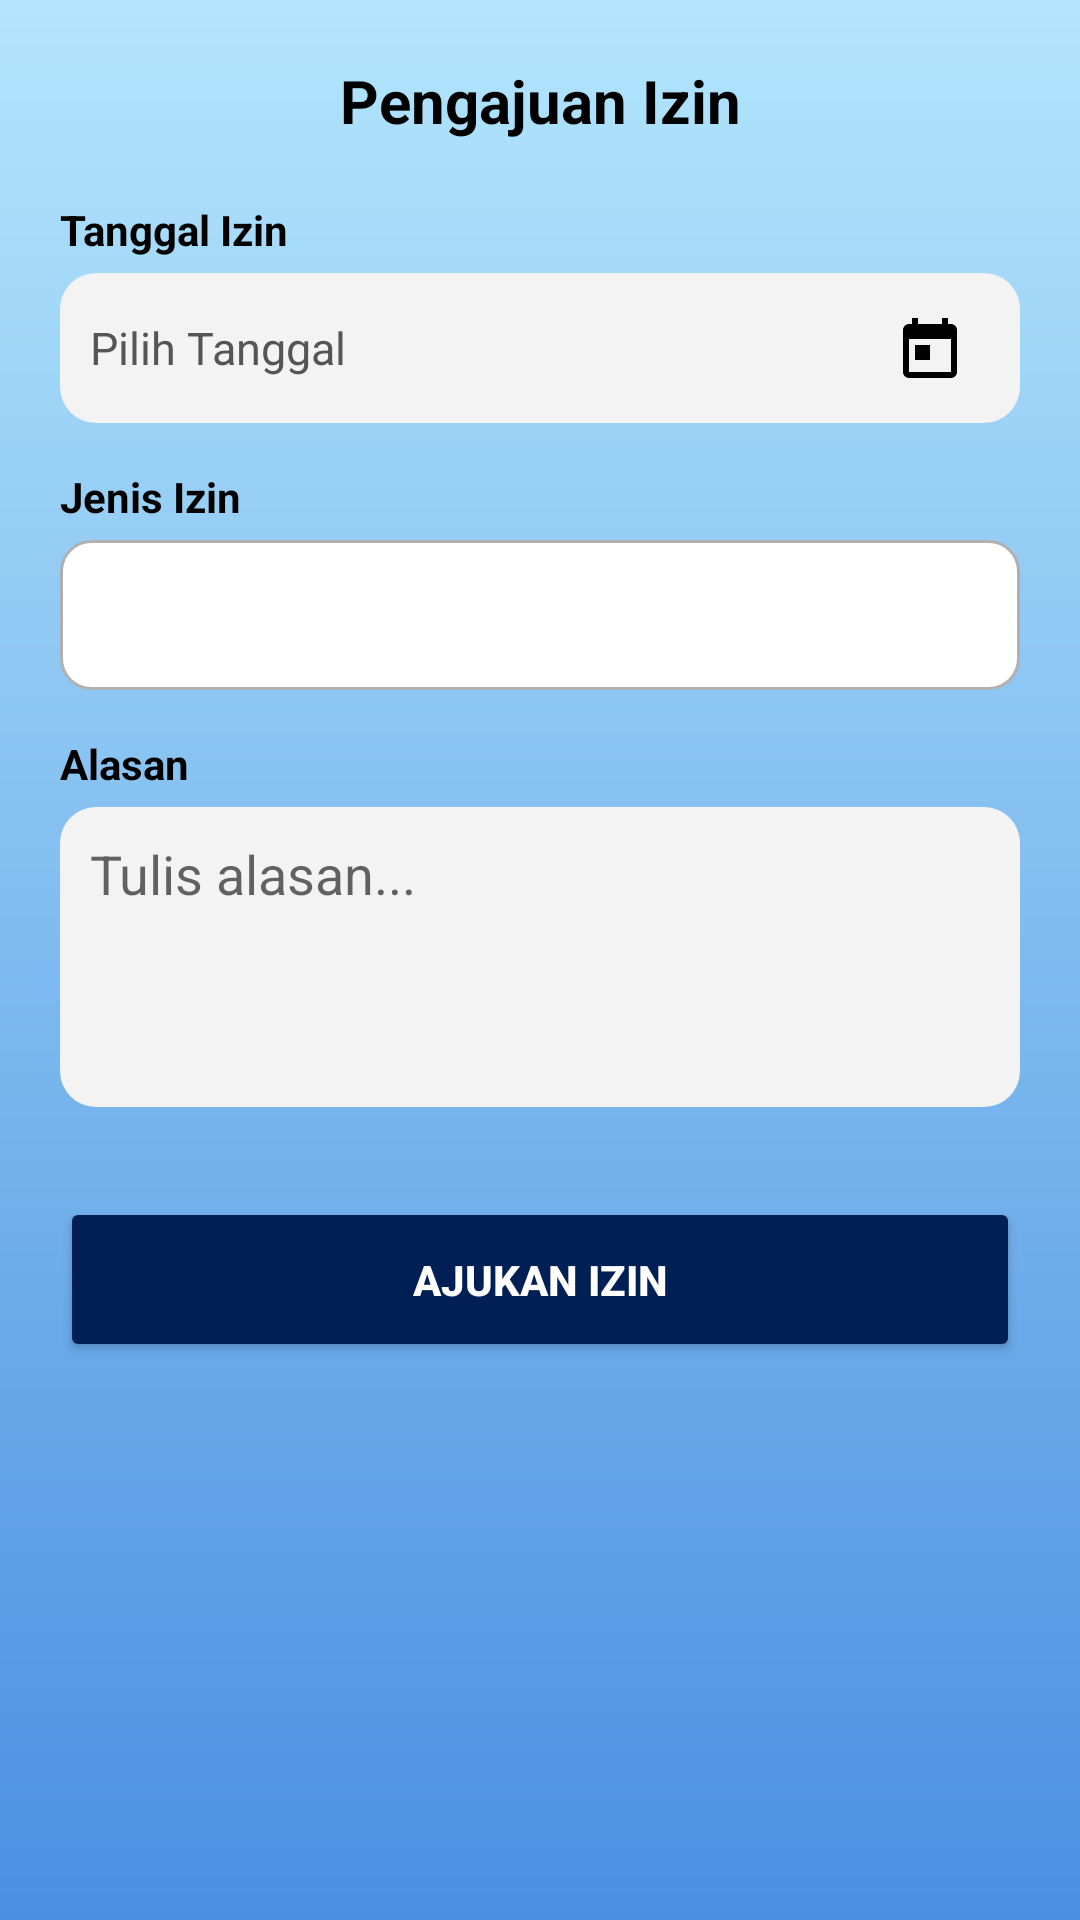

Locate icon controls on the screen. Image size 1080×1920, boxes as (x1,y1,x2,y2).
Kalender: (903,318,957,378)
